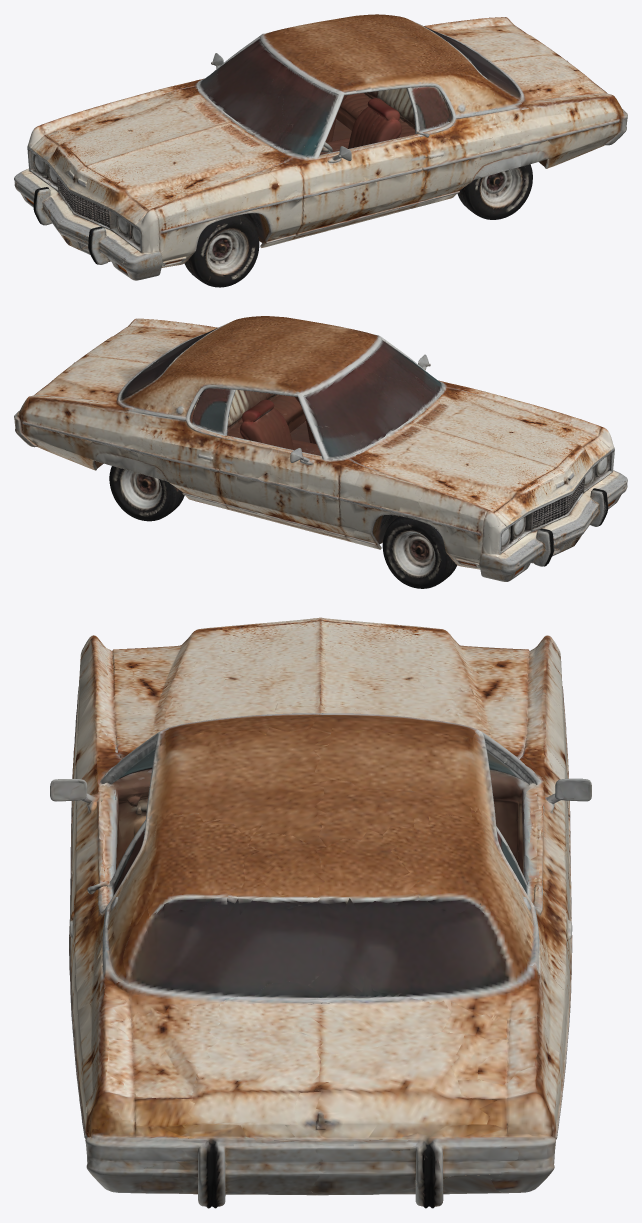
The model's file is rusty-starter-scaled.glb.
3 views of the same model, one above another, from view 1: azimuth 30°, elevation 25°; view 2: azimuth 150°, elevation 25°; view 3: azimuth 270°, elevation 25° (orthographic). The views are drawn at different scales.
Visible parts, largest first — view 1: Mesh_0; view 2: Mesh_0; view 3: Mesh_0.
Part boxes in pixels (x1,y1,x2,y2): Mesh_0: (14, 14, 627, 287); Mesh_0: (14, 316, 627, 588); Mesh_0: (50, 617, 591, 1208).
Size of the model in its own units: 5.71 by 1.65 by 2.57.
1 material, 1 textured.
